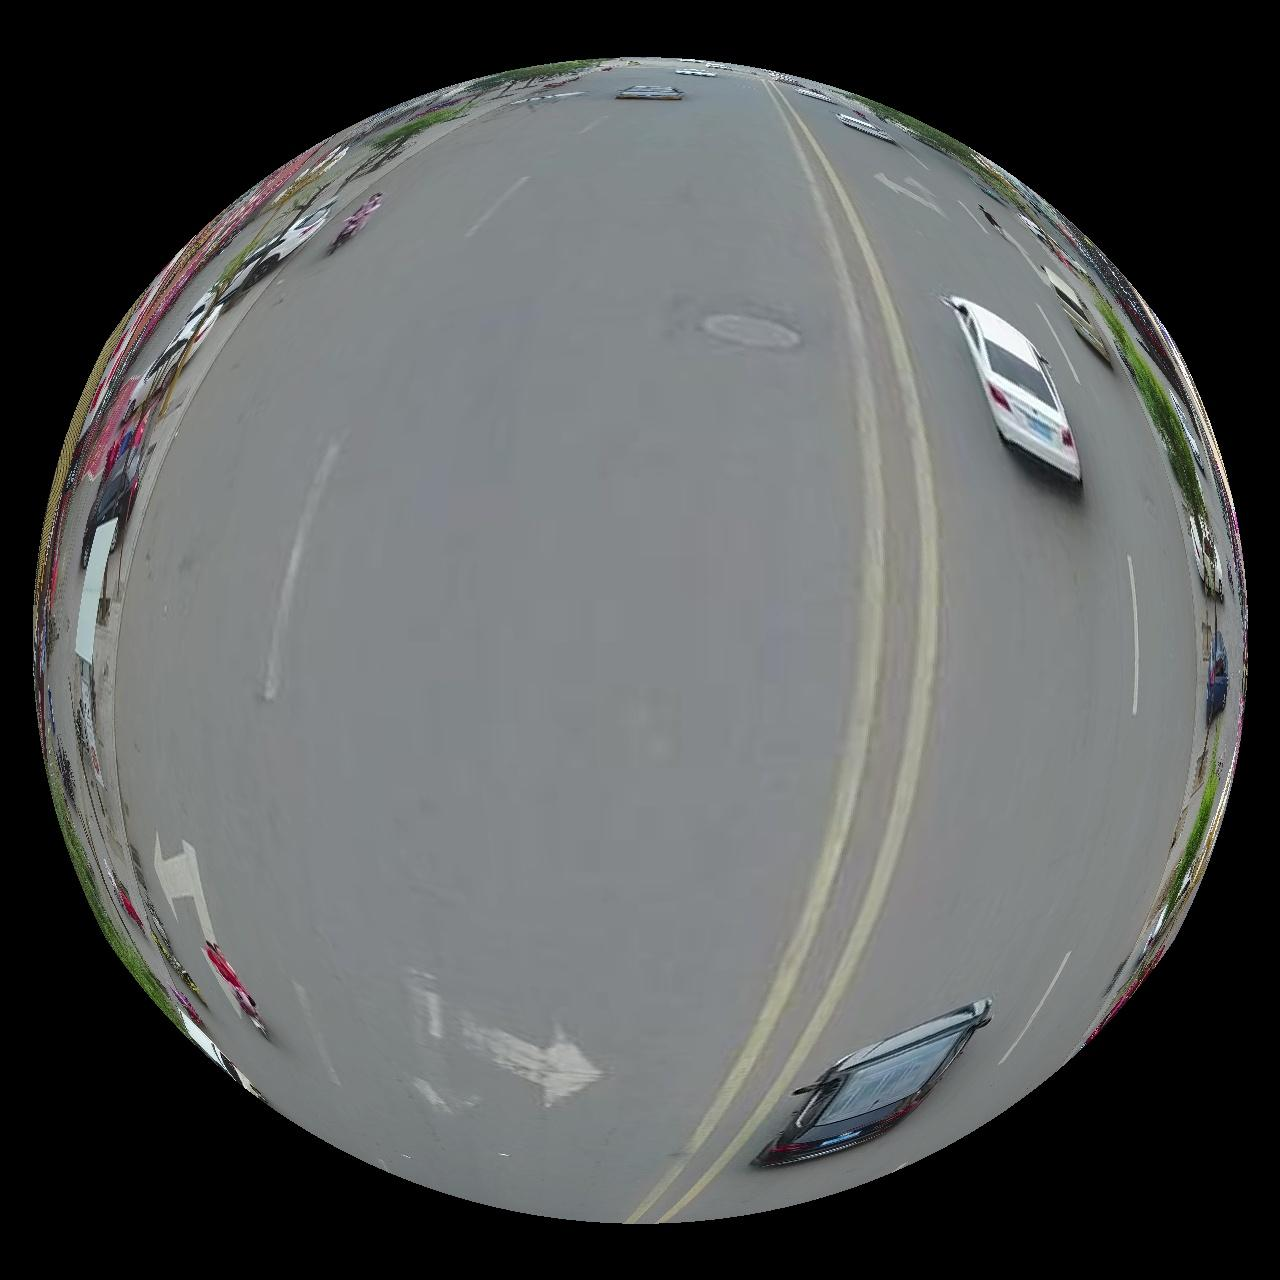cars: (753, 1001, 994, 1169), (944, 295, 1084, 482), (838, 111, 896, 143), (617, 83, 685, 98)
trees: (1099, 291, 1213, 524)
